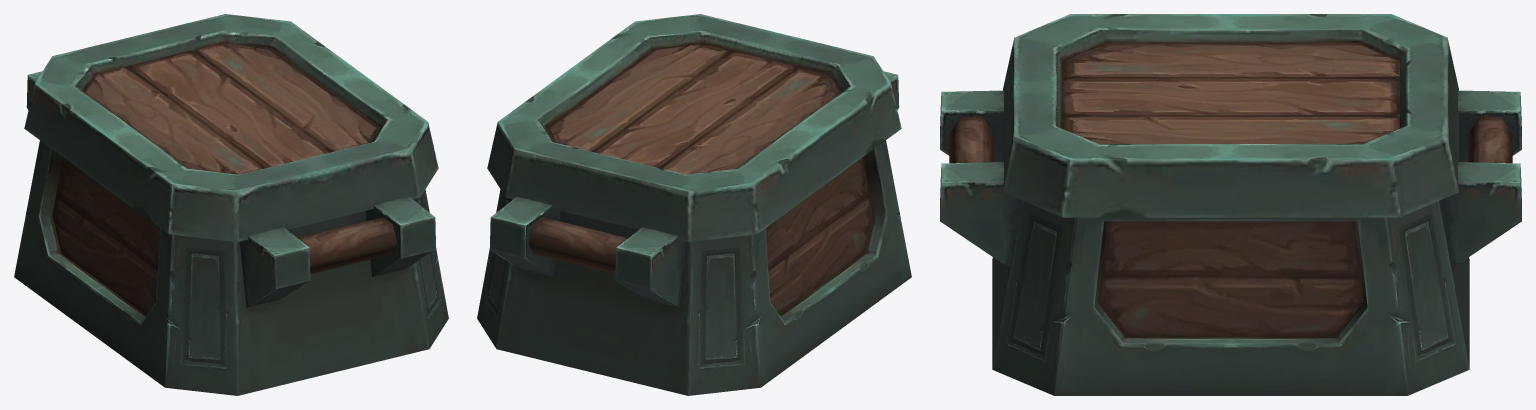
The picture shows the model from 3 angles, left to right: view 1: azimuth 30°, elevation 25°; view 2: azimuth 150°, elevation 25°; view 3: azimuth 270°, elevation 25°; orthographic projection. The views are drawn at different scales.
Bounding box in the file's own units: 1.08 × 0.7098 × 1.64.
Materials: 1 (1 with a texture image).
